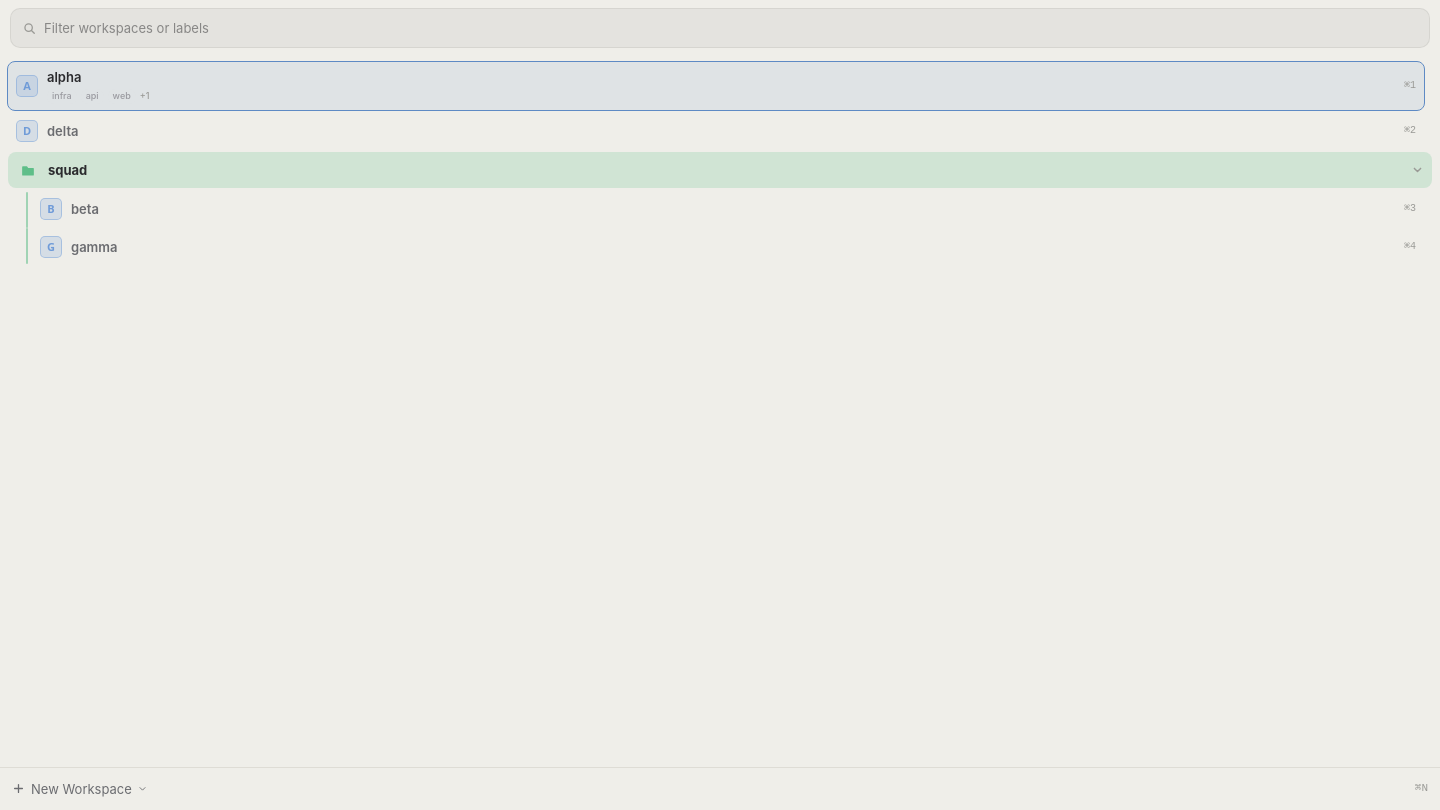
Test: context menus (portal-based) › captions an empty Labels submenu "No labels", never "preset"
The width and height of the screenshot is (1440, 810).
Step 1. Right-click the option with test id "workspace-row" showing "D delta ⌘2" → (63, 131), box [8,114,1424,148]
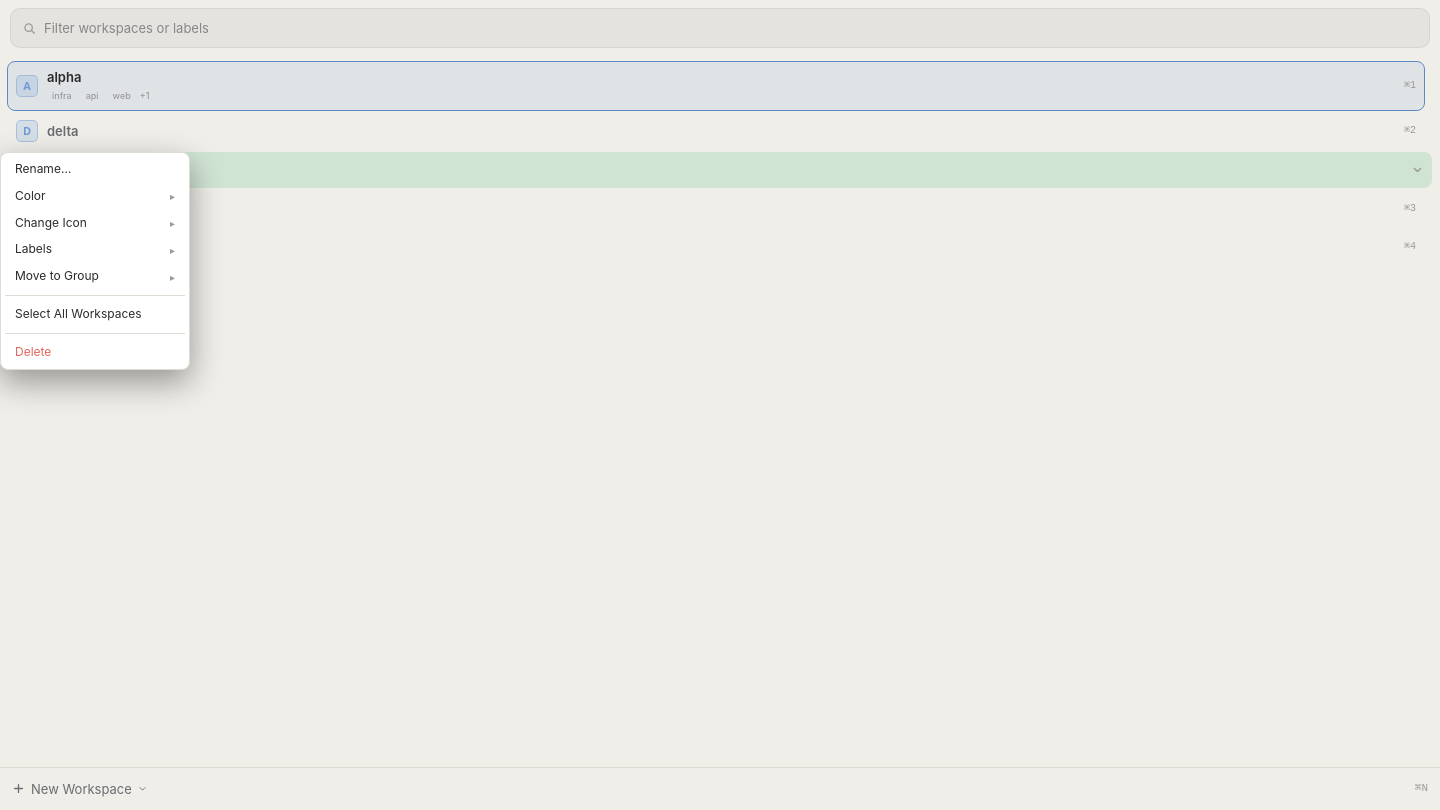
Step 2. Hover over the text "Labels" → (34, 249), box [15,241,52,256]
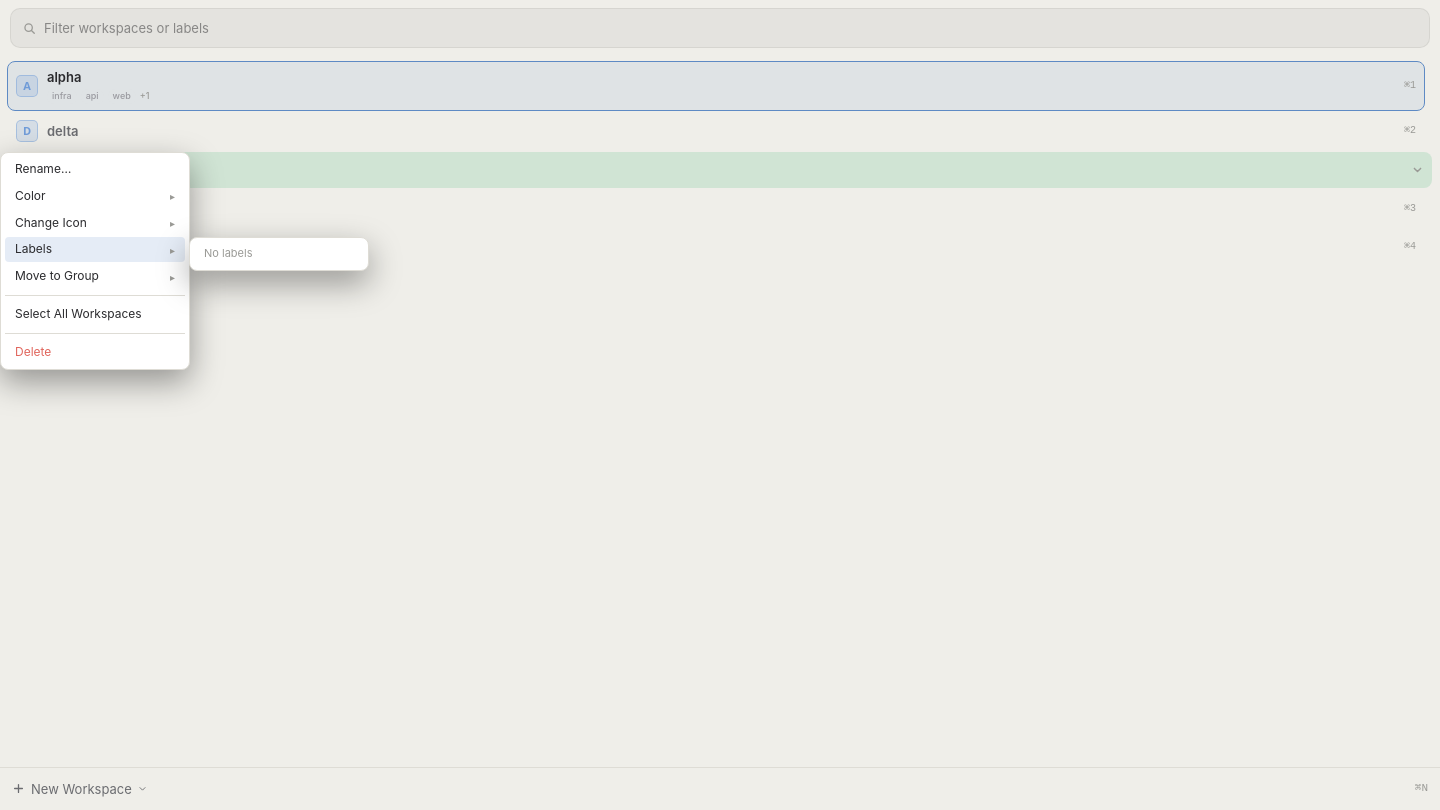
Expected: the text "No labels" is shown, [204,246,252,260]
